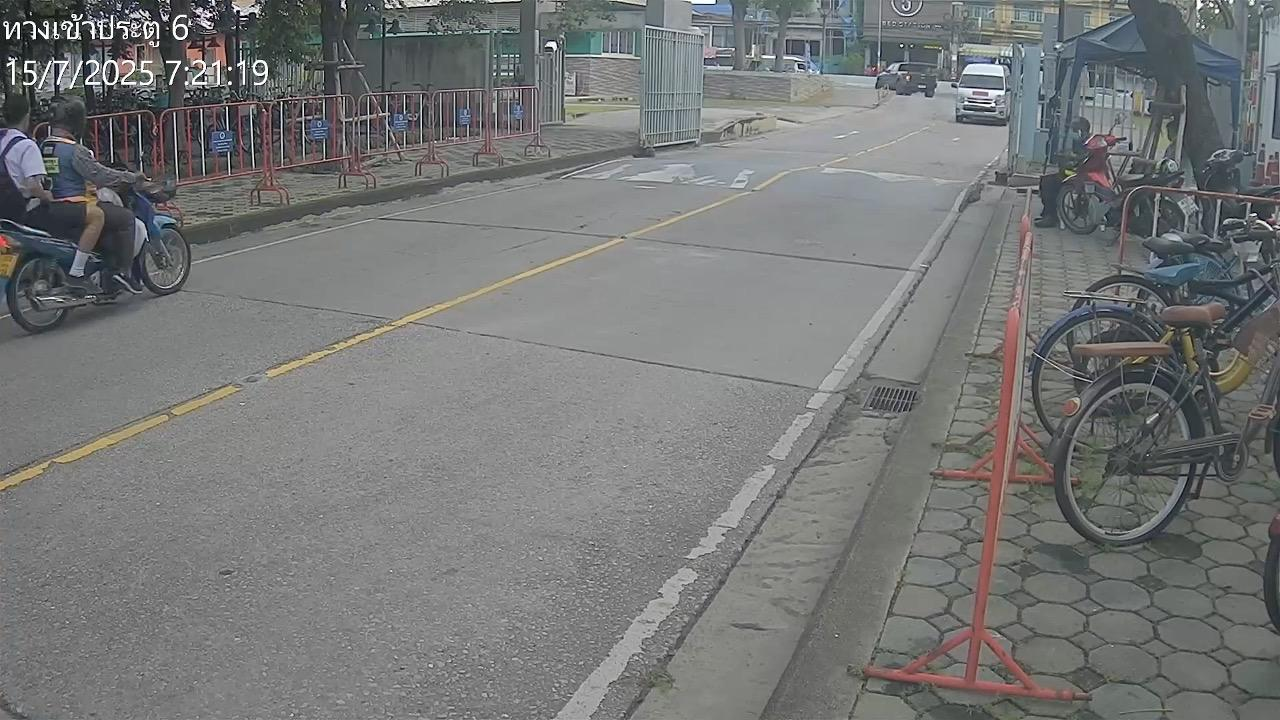With-Helmet: (49, 91, 89, 141)
